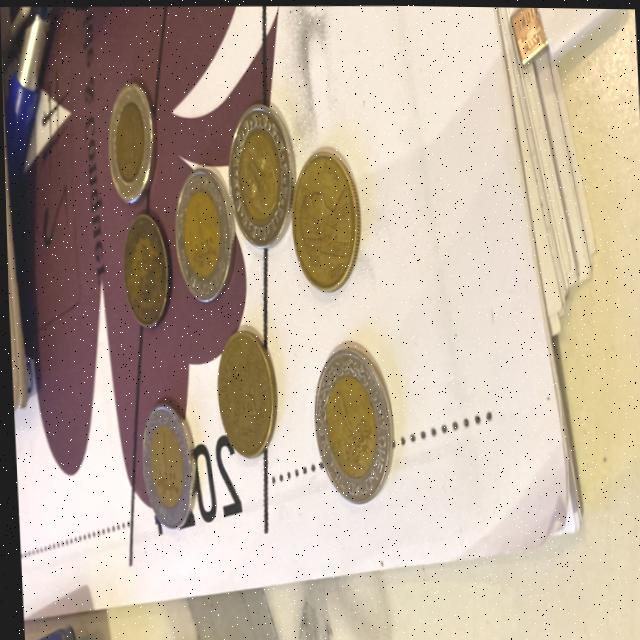Half Pound: (280, 146, 364, 292), (208, 330, 279, 464), (116, 211, 171, 333)
One Pound: (302, 334, 397, 515), (223, 96, 292, 248), (166, 168, 233, 303), (136, 394, 193, 537), (100, 83, 161, 210)
